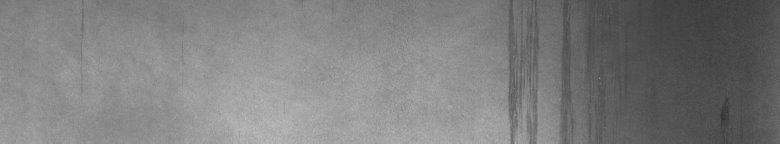ka: (504, 4, 592, 136)
